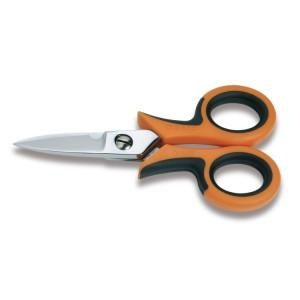Scissors: (13, 73, 284, 229)
